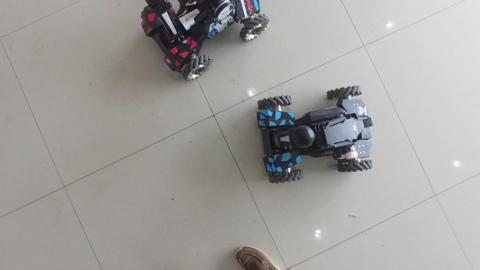chariot: (251, 79, 376, 187), (133, 1, 279, 86)
